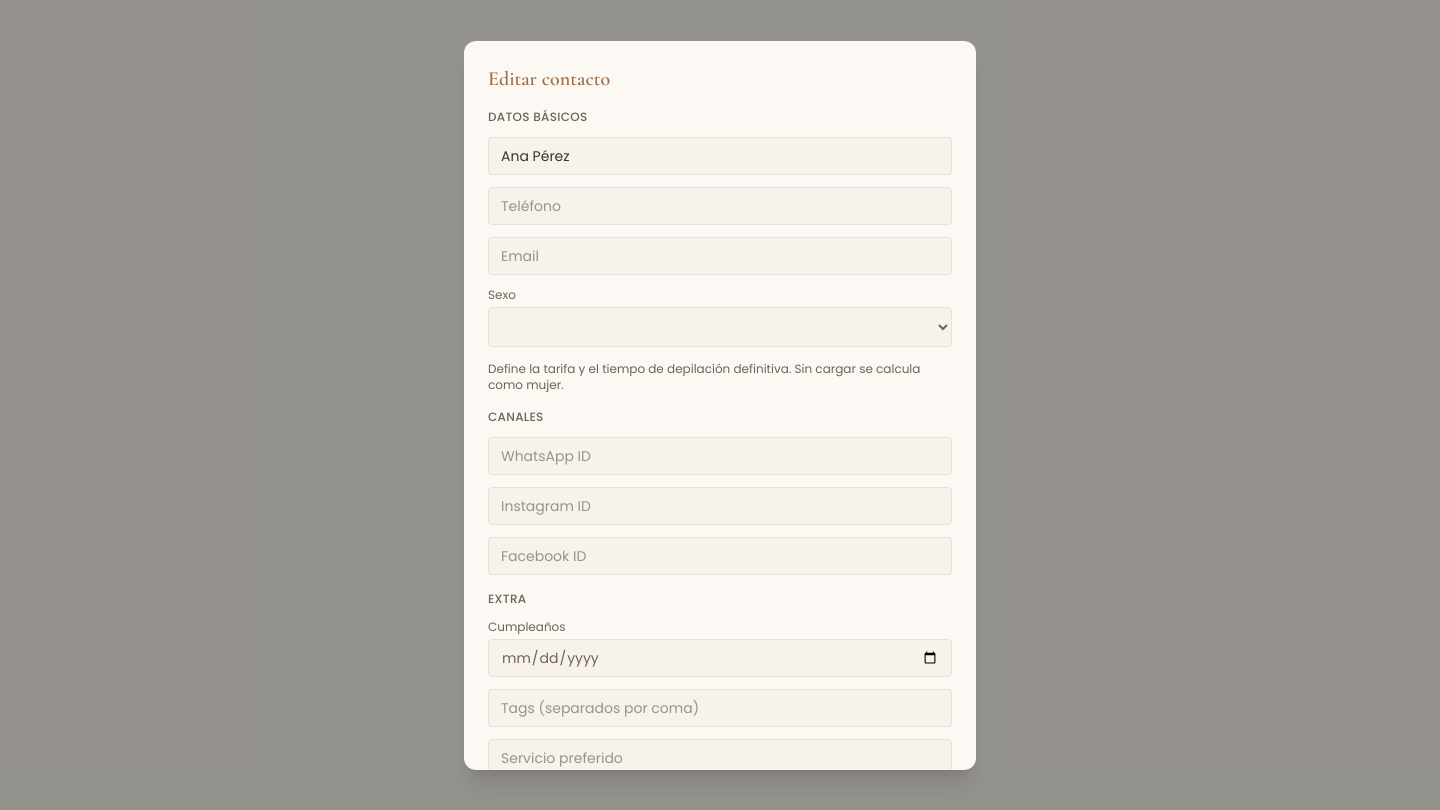
ContactFormModal — aviso del número › Corregir vuelve al formulario sin guardar
The image size is (1440, 810).
Type "1530317884" into the field with placeholder "WhatsApp ID" at (720, 456), box [488, 436, 952, 474]
(page scrolled)
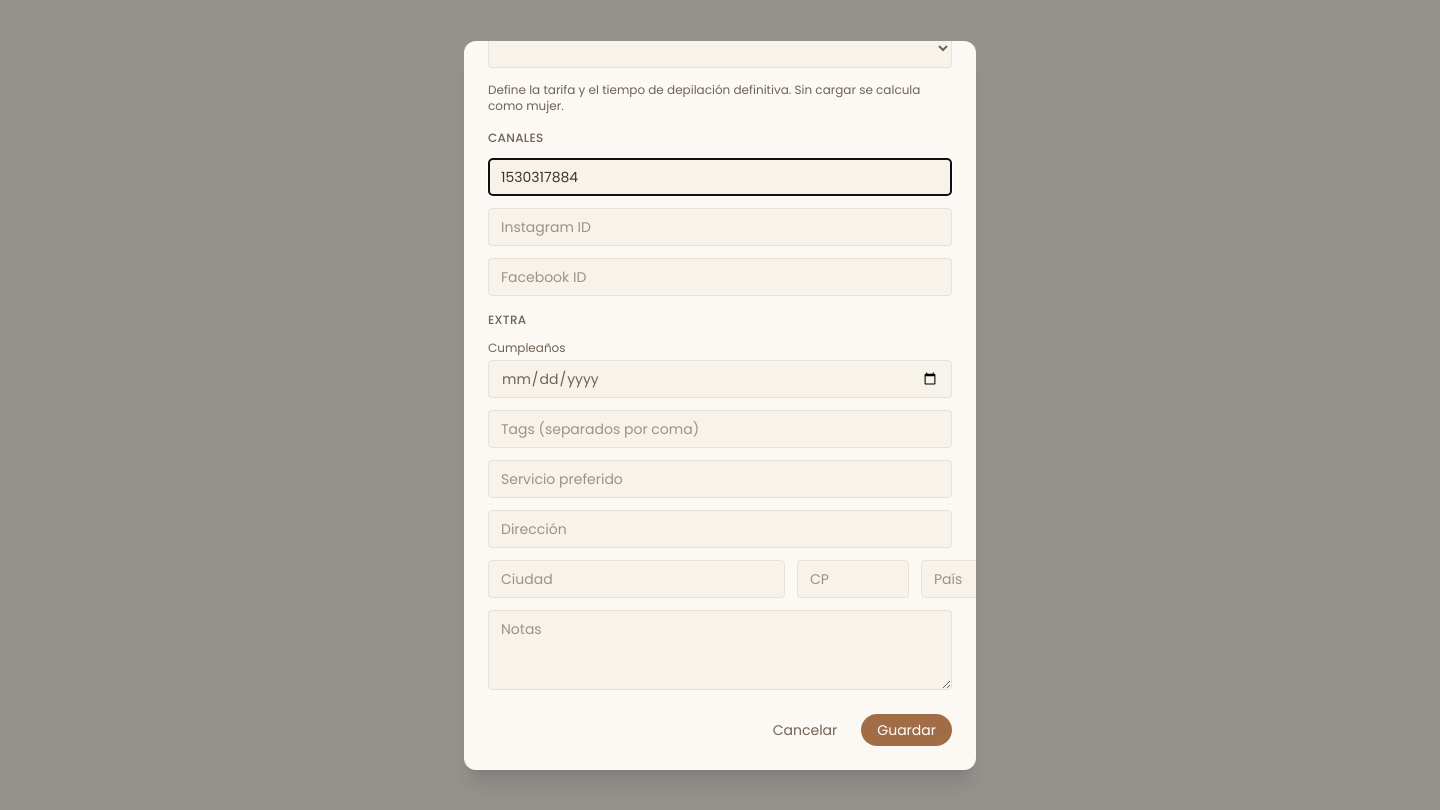
Click the button "Guardar" at (907, 730), box [861, 714, 952, 746]
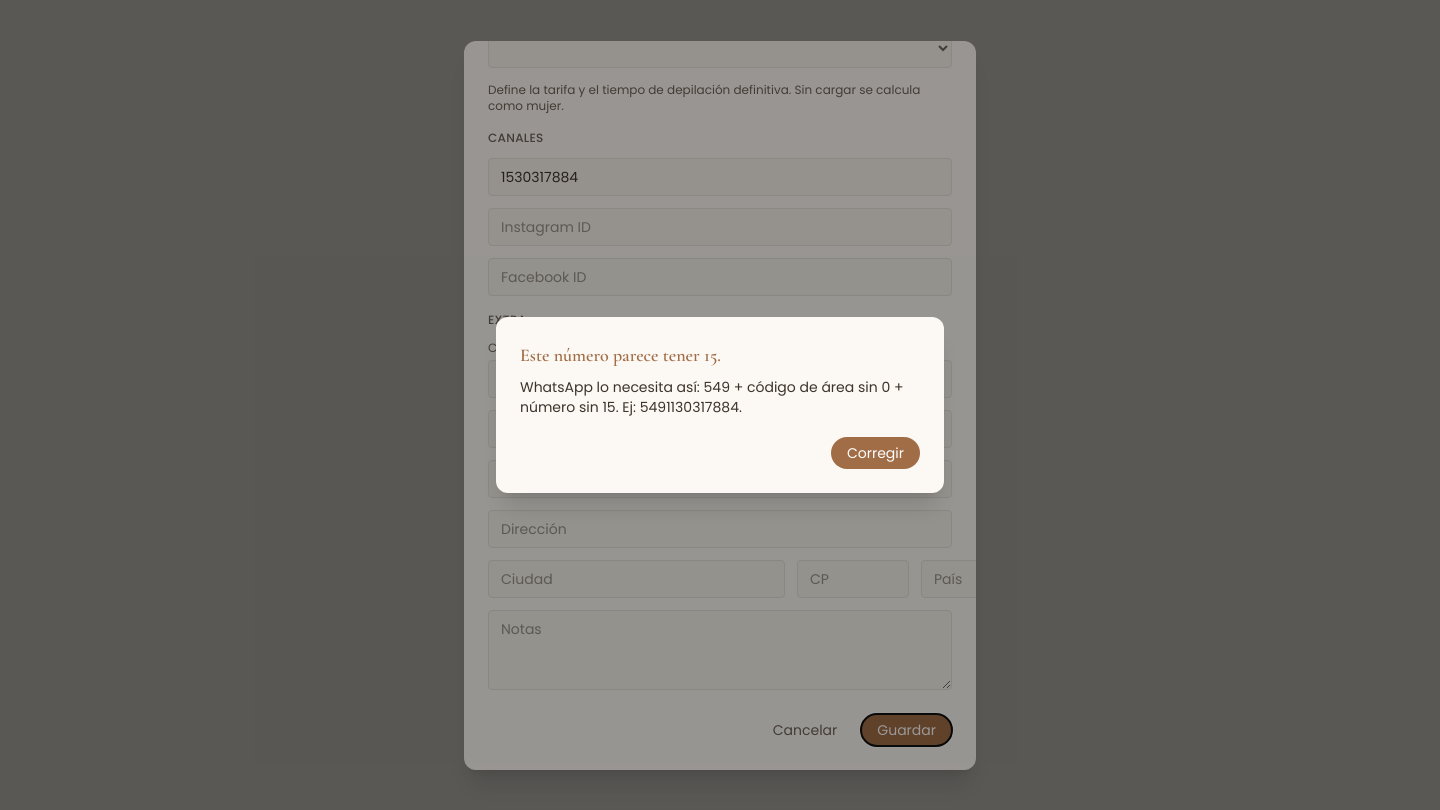
Click the button "Corregir" at (876, 453), box [831, 437, 920, 469]
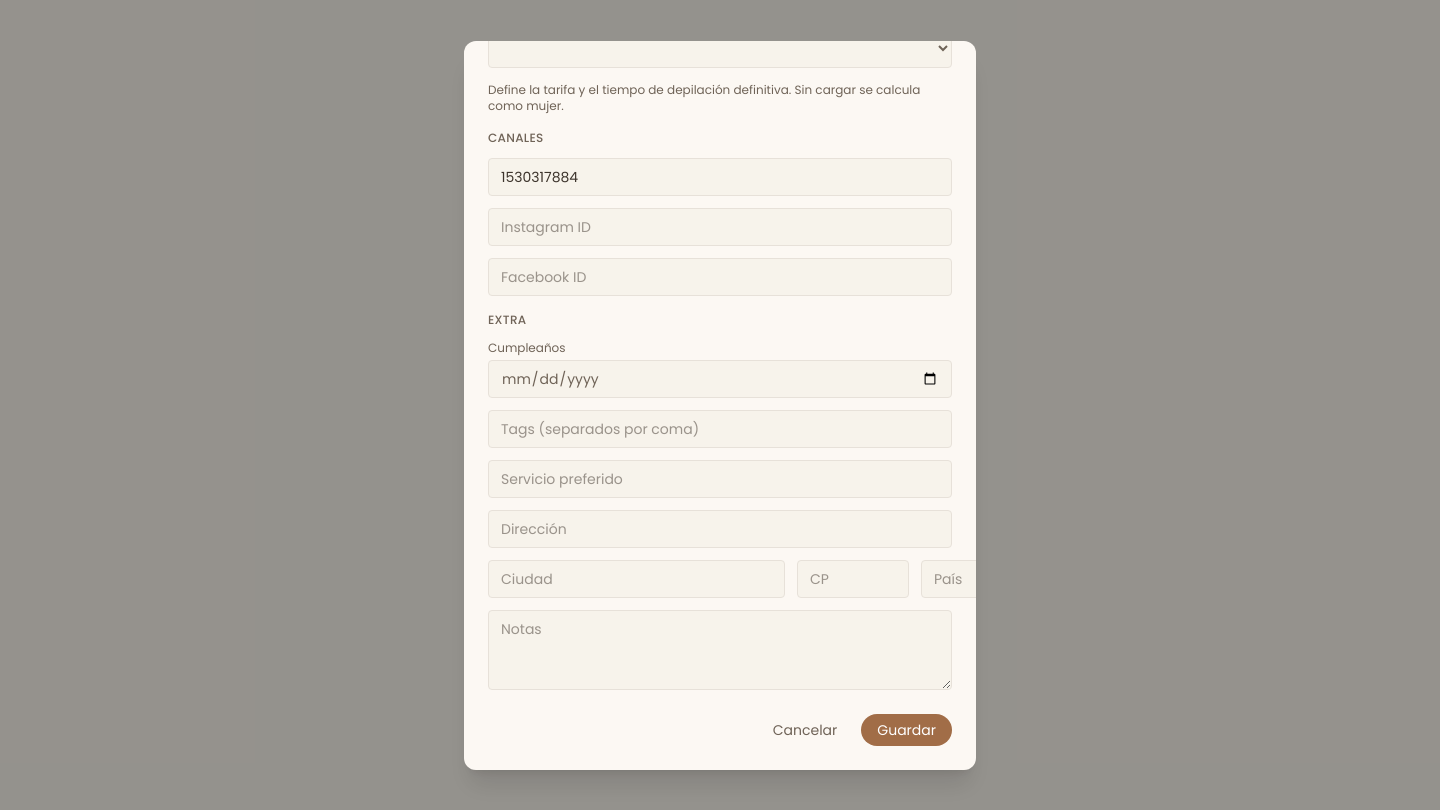
Now the text "WhatsApp lo necesita así: 549 + código de área sin 0 + número sin 15. Ej: 5491130317884." is gone
